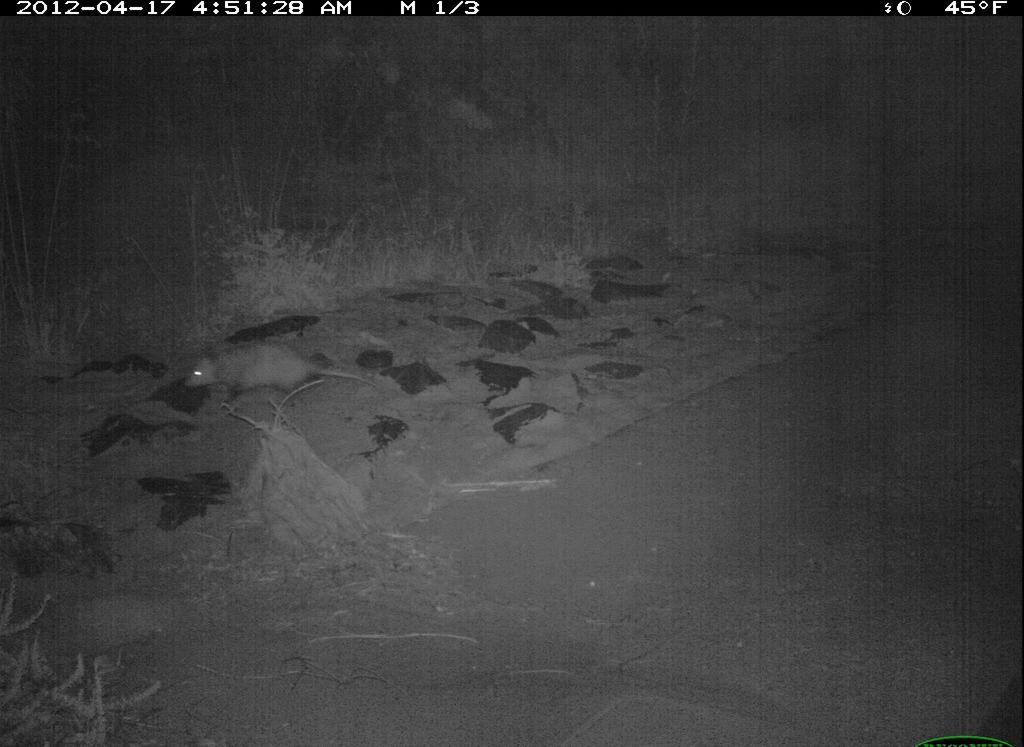opossum: (180, 328, 393, 423)
